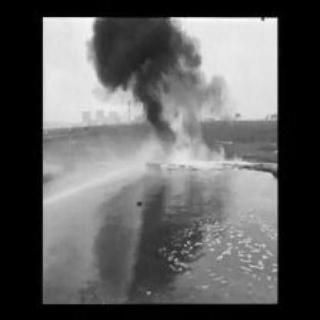Fire: (137, 61, 244, 169)
Smoke: (88, 12, 204, 84)
other: (150, 172, 204, 218)
